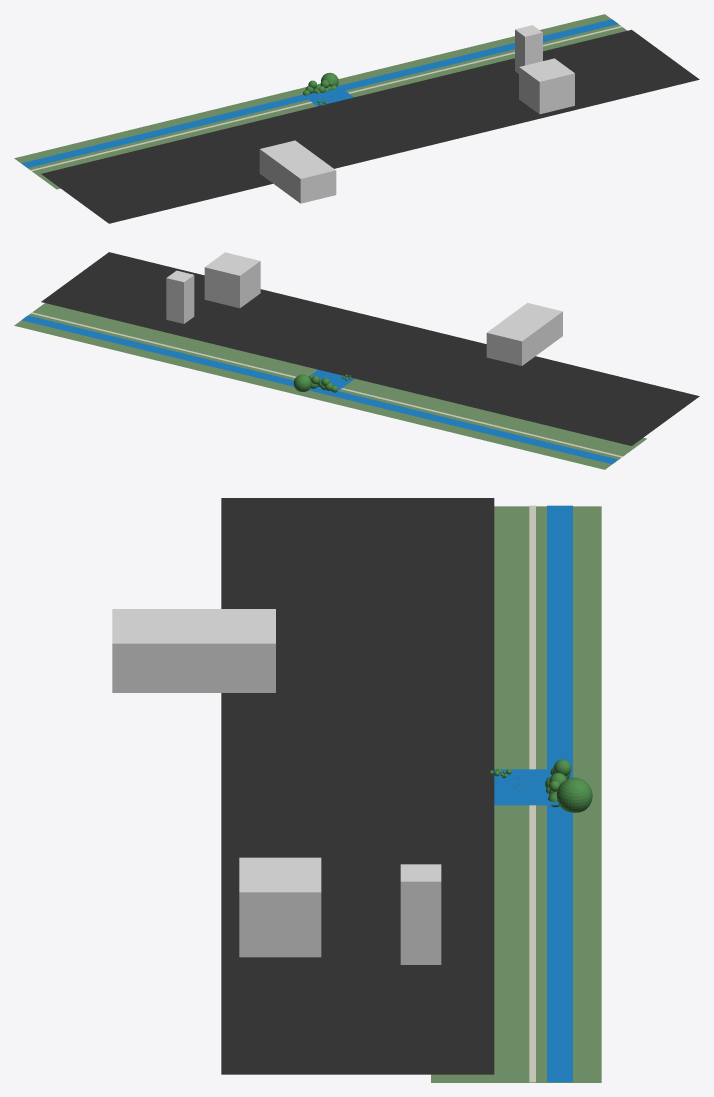
The picture shows the model from 3 angles, top to bottom: view 1: azimuth 30°, elevation 25°; view 2: azimuth 150°, elevation 25°; view 3: azimuth 270°, elevation 25°; orthographic projection. The views are drawn at different scales.
Parts seen in each view (by area): view 1: PlaneAsphalt, PlaneGrass, PlaneRiver, Building.006, Building.005, PlaneSidewalk, Building.004, Water_100m, Forest; view 2: PlaneAsphalt, PlaneGrass, PlaneRiver, Building.006, Building.005, Building.004, PlaneSidewalk, Forest, Water_100m; view 3: PlaneAsphalt, PlaneGrass, PlaneRiver, Building.006, Building.005, Building.004, PlaneSidewalk, Water_100m, Forest.
Part boxes in pixels (box(x1,y1,x2,y2)): PlaneAsphalt: box(41, 29, 699, 223); PlaneGrass: box(14, 14, 627, 189); PlaneRiver: box(21, 19, 618, 167); Building.006: box(259, 140, 336, 203); Building.005: box(519, 58, 574, 114); PlaneSidewalk: box(31, 26, 622, 171); Building.004: box(515, 25, 542, 73); Water_100m: box(302, 86, 353, 106); Forest: box(303, 72, 338, 95); PlaneAsphalt: box(41, 252, 699, 445); PlaneGrass: box(14, 303, 646, 469); PlaneRiver: box(21, 315, 617, 464); Building.006: box(486, 303, 562, 365); Building.005: box(204, 252, 260, 308); Building.004: box(166, 270, 194, 323); PlaneSidewalk: box(30, 312, 622, 457); Forest: box(293, 374, 337, 392); Water_100m: box(309, 369, 354, 390); PlaneAsphalt: box(221, 498, 494, 1074); PlaneGrass: box(431, 506, 601, 1082); PlaneRiver: box(547, 505, 572, 1082); Building.006: box(112, 609, 275, 692); Building.005: box(239, 857, 321, 957); Building.004: box(400, 864, 441, 964); PlaneSidewalk: box(529, 505, 535, 1082); Water_100m: box(494, 769, 558, 805); Forest: box(545, 759, 592, 812).
Bounding box in the file's own units: 160000 × 57390 × 12385.
